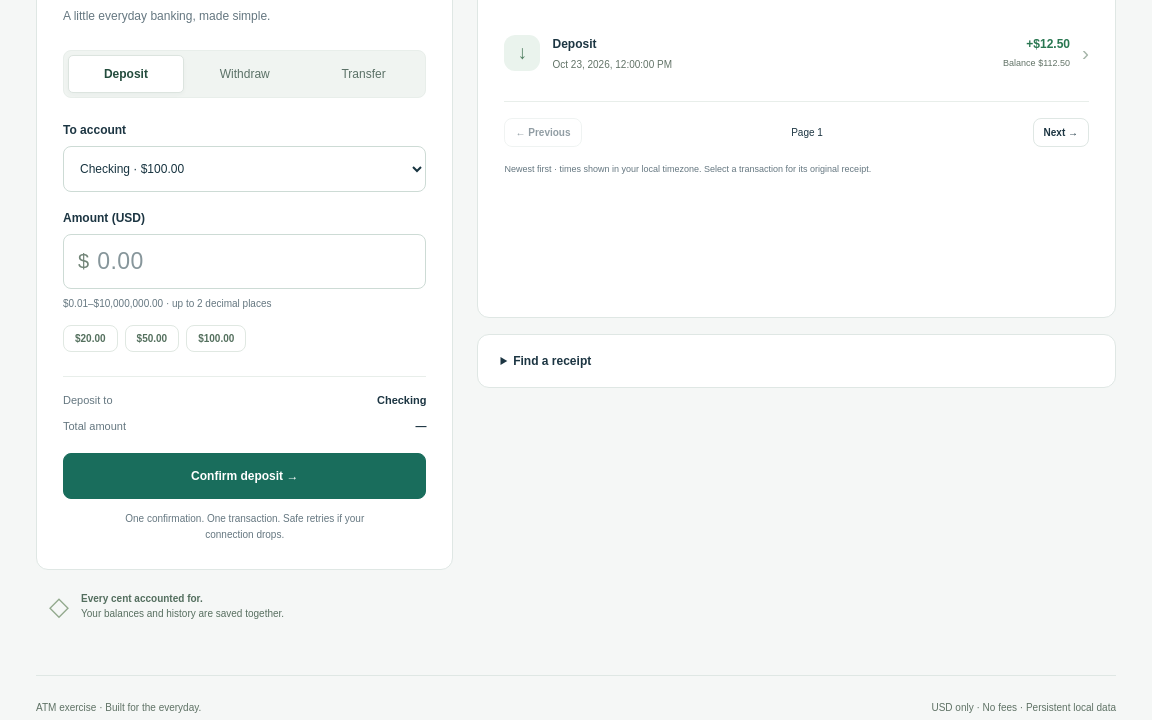
Test: looks up a receipt by UUID and rejects invalid lookup input
(page scrolled)
expect the button "Confirm deposit →" is enabled: met, box [63,453,426,499]
Click the heading "Find a receipt" at (552, 361), box [513,354,591,368]
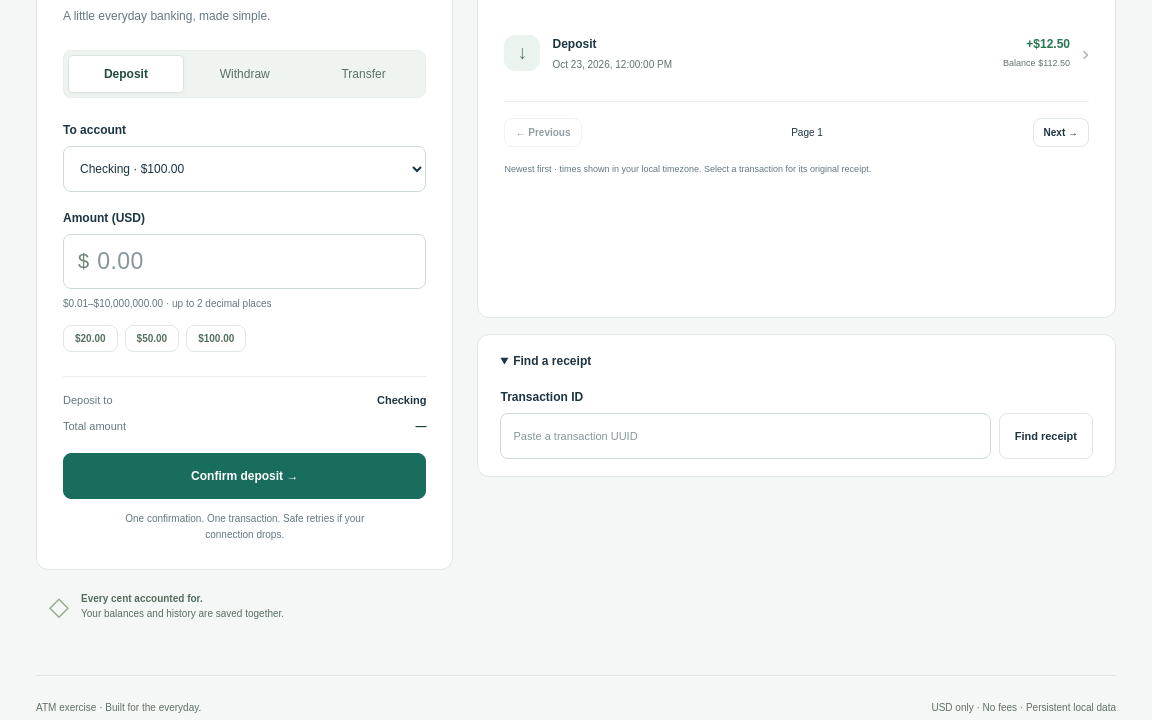
Type "bad" into the field labelled "Transaction ID" at (746, 436), box [500,413,991,459]
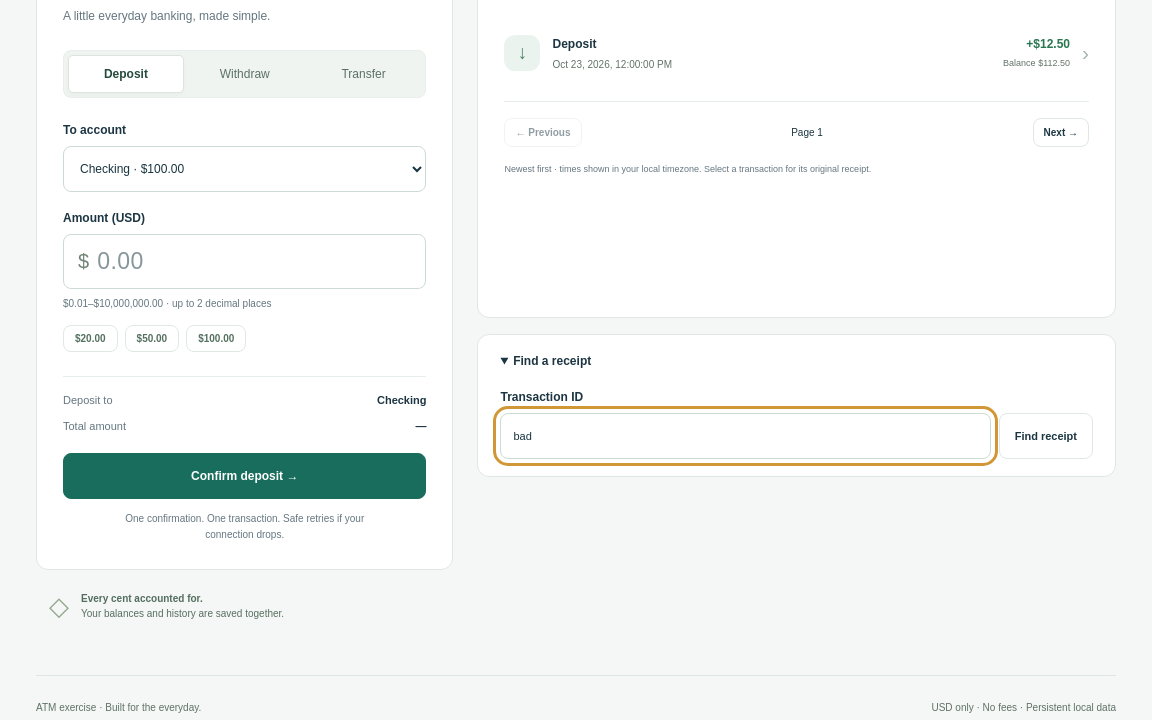
Click the button "Find receipt" at (1046, 436), box [999,413,1093,459]
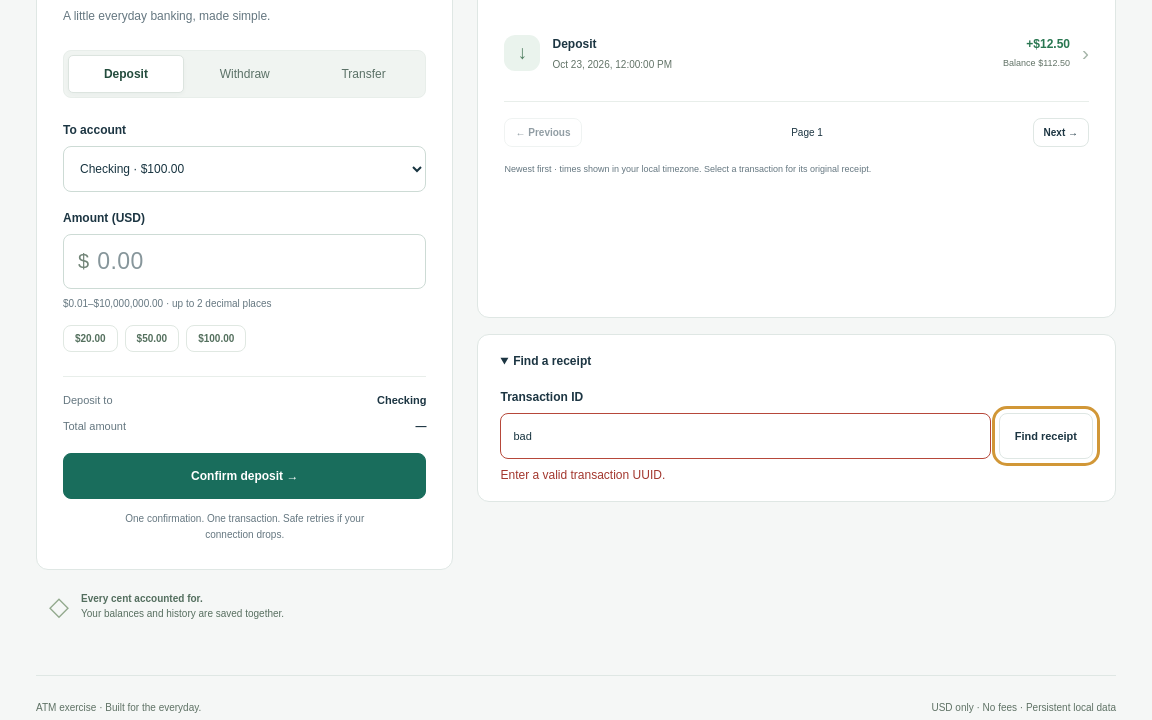
expect the text "Enter a valid transaction UUID." is shown: met, box [500,468,665,482]
Replace the text in the field labelled "Transaction ID" with "2475ad13-2fef-4efb-93d5-f2cfdc605ce6" at (746, 436), box [500,413,991,459]
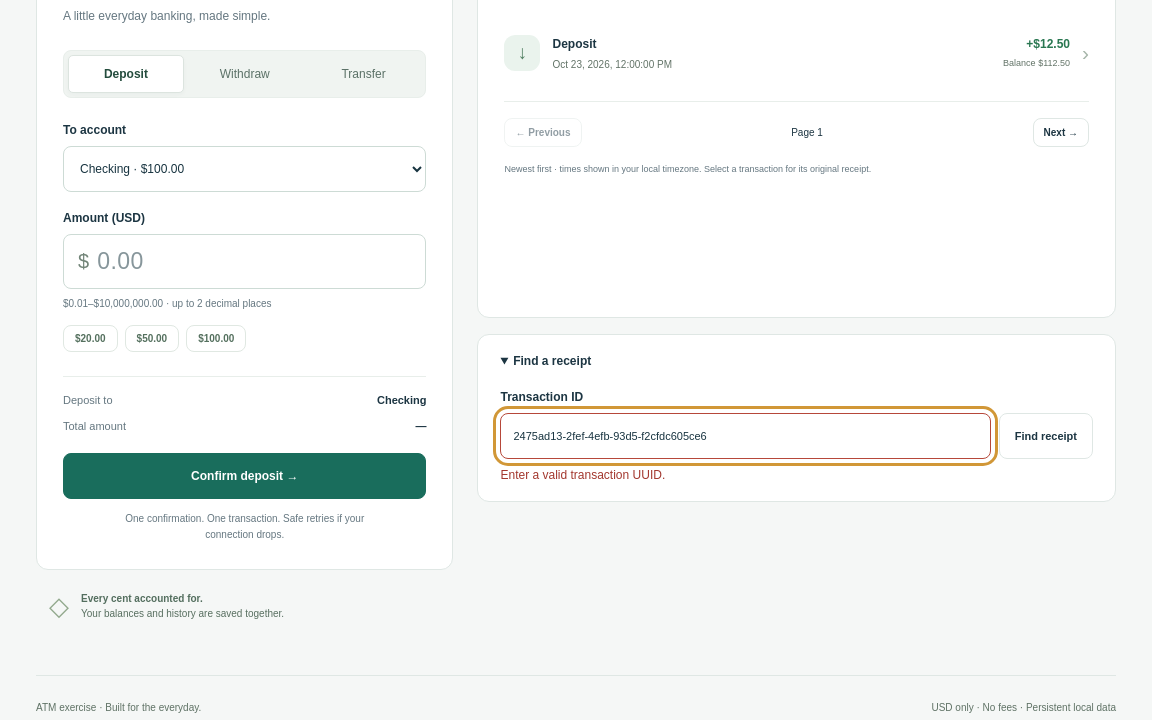
Click the button "Find receipt" at (1046, 436), box [999,413,1093,459]
(page scrolled)
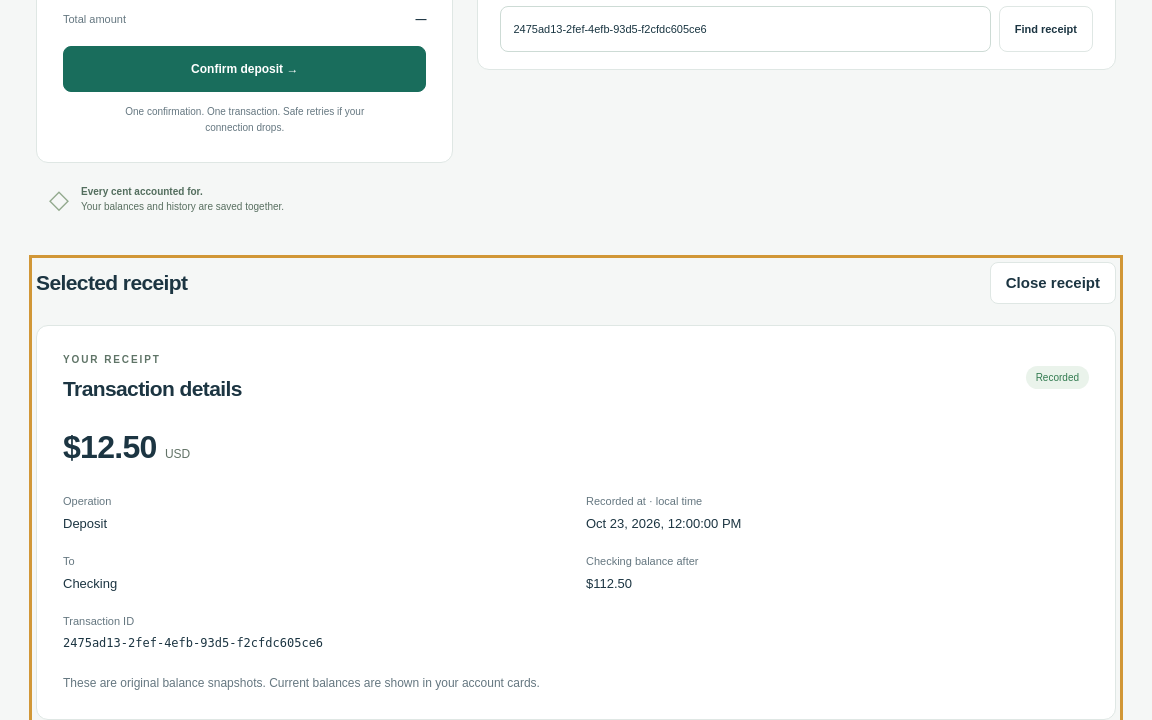
expect the element named "Transaction receipt" is shown: met, box [36,325,1116,719]
